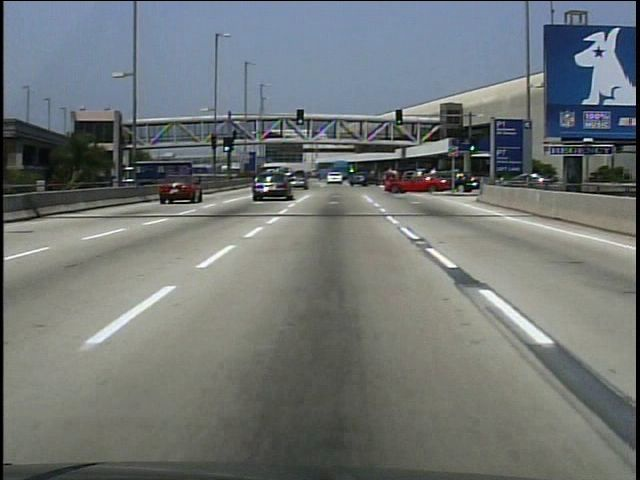person: (232, 130, 239, 143)
